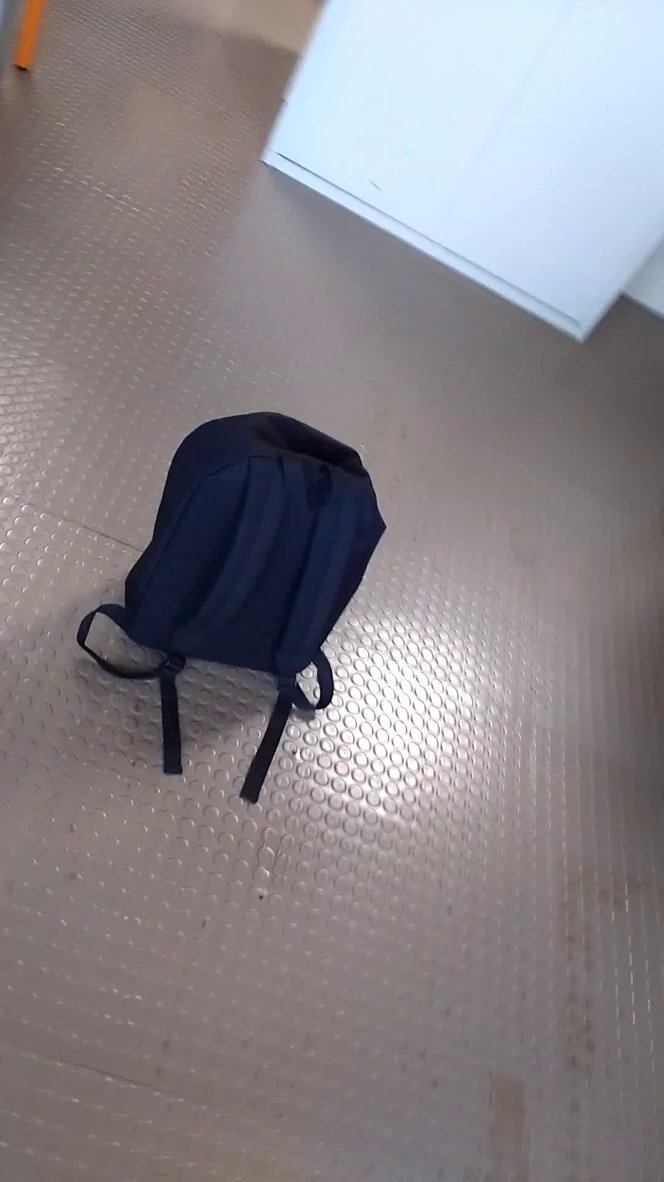bag: (62, 397, 406, 809)
